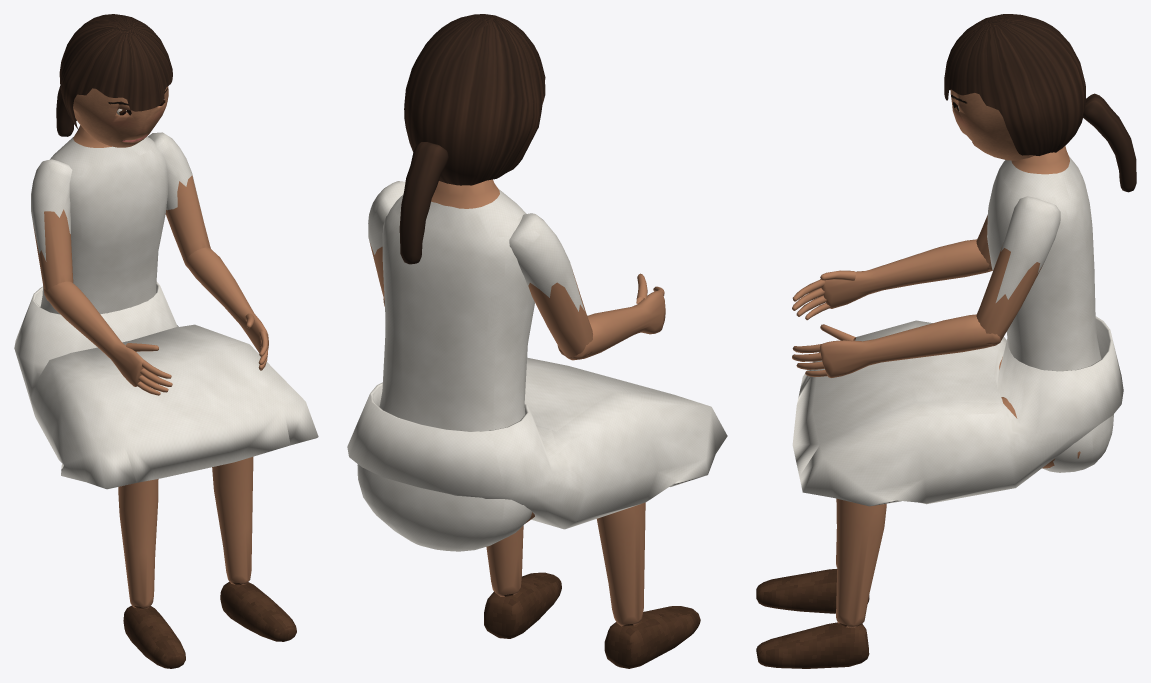
Rendered from persona_nina_sentada_medio.obj.
3 views of the same model, side by side, from view 1: azimuth 30°, elevation 25°; view 2: azimuth 150°, elevation 25°; view 3: azimuth 270°, elevation 25° (orthographic). The views are drawn at different scales.
Parts seen in each view (by area): view 1: persona_nina_sentada; view 2: persona_nina_sentada; view 3: persona_nina_sentada.
Part boxes in pixels (x1,y1,x2,y2): persona_nina_sentada: (14,14,318,668); persona_nina_sentada: (347,14,727,668); persona_nina_sentada: (756,14,1136,668).
Bounding box in the file's own units: 0.4074 × 0.8974 × 0.4991.
10 materials, 10 textured.
